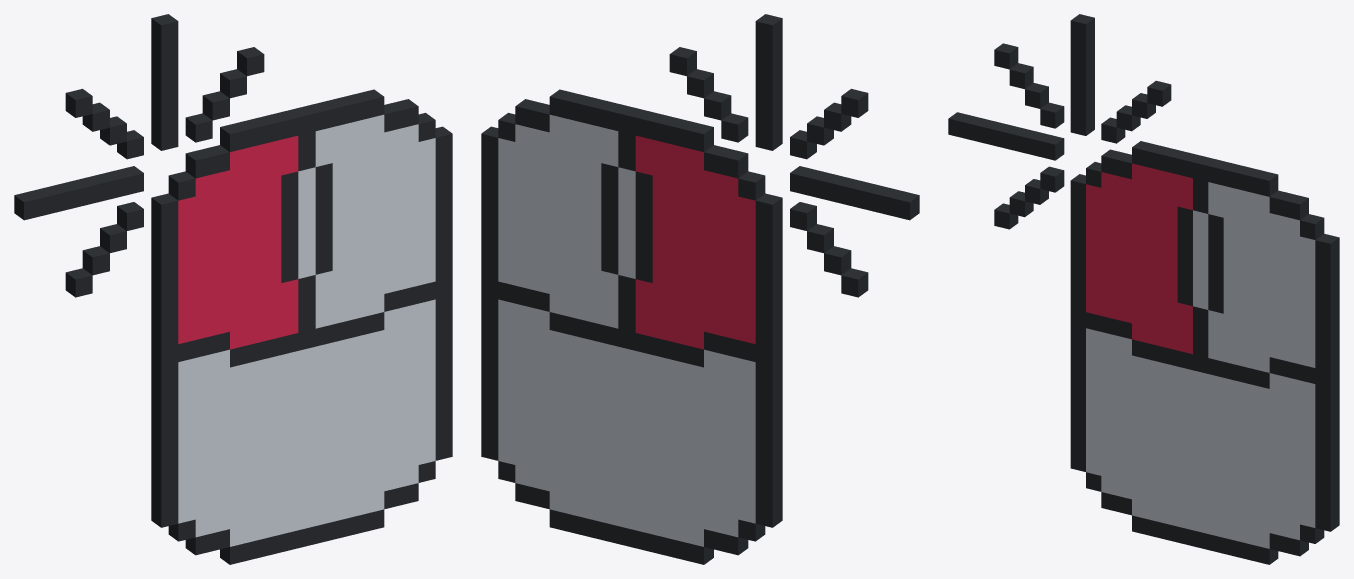
The model's file is ExempleClicSouris.fbx.
3 renders of one model, left to right at view 1: azimuth 30°, elevation 25°; view 2: azimuth 150°, elevation 25°; view 3: azimuth 330°, elevation 25°, orthographic. The views are drawn at different scales.
Visible parts, largest first — view 1: generated; view 2: generated; view 3: generated.
Boxes of the visible parts, <box> form: generated: <box>14,14,452,564</box>; generated: <box>481,14,919,564</box>; generated: <box>948,14,1339,564</box>.
Size of the model in its own units: 250 by 310 by 10.
